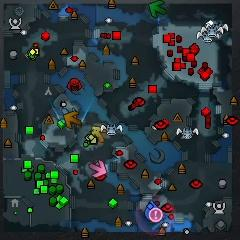Other: (149, 208, 162, 224)
p1: (145, 200, 160, 220)
x1: (90, 159, 106, 178)
x2: (91, 126, 106, 142)
x3: (60, 108, 75, 122)
x4: (149, 1, 167, 18)
x5: (63, 111, 81, 129)
